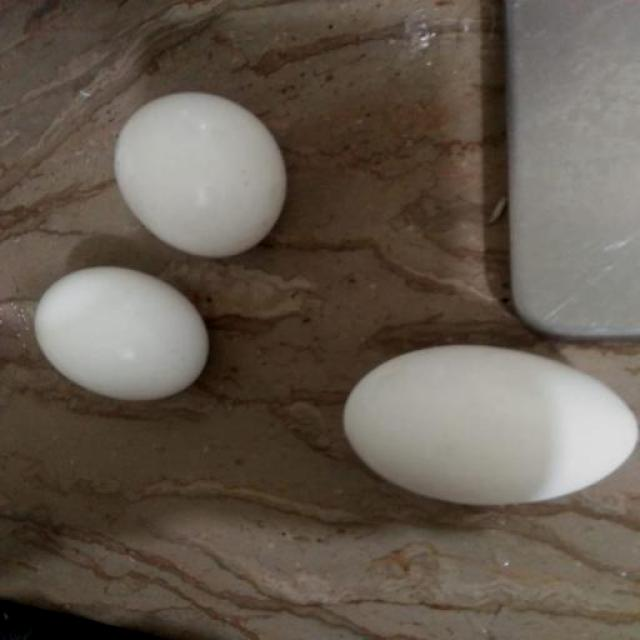telur: (343, 342, 639, 504), (116, 92, 286, 258), (34, 266, 211, 403)
